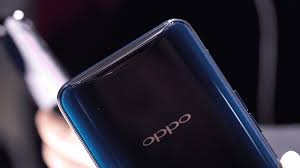oppo: (51, 13, 279, 168)
